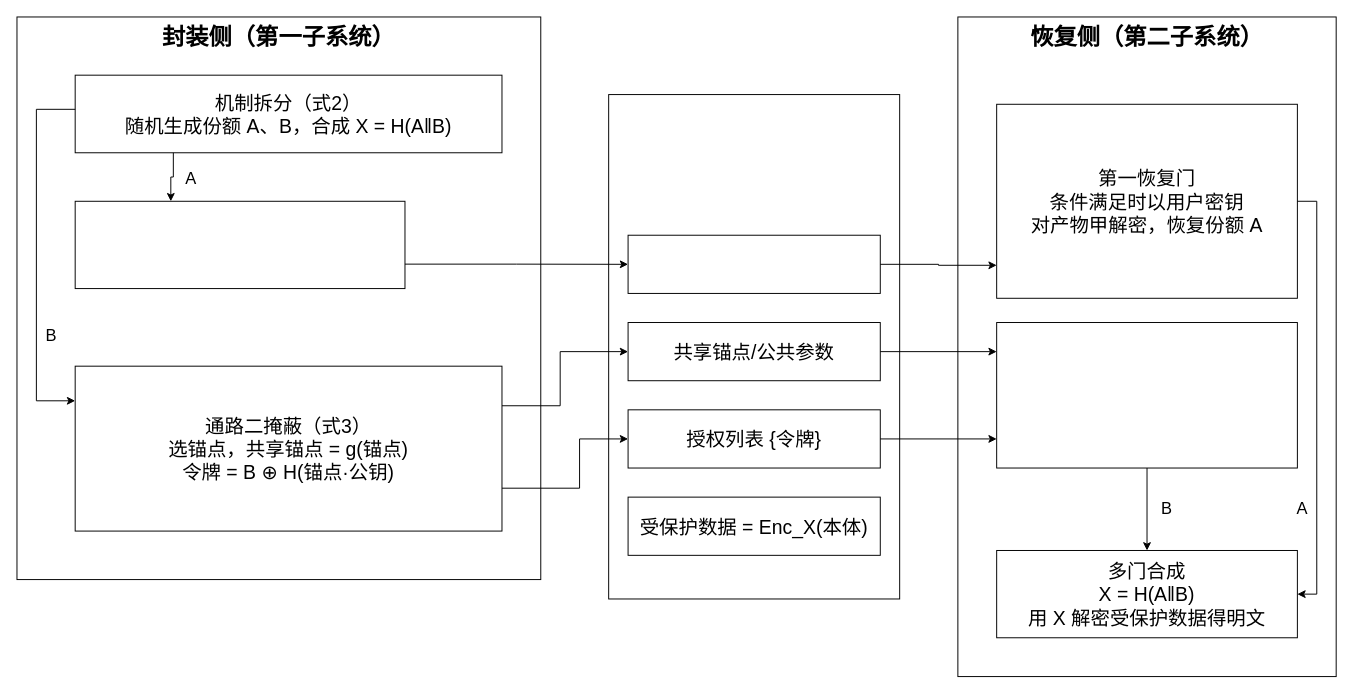
The diagram is 1353 pixels wide and 694 high, and some of its shapes have lost their labels. The shapes that lost their labels are listed below. From the top down, each one's box as (x1, y1, x2, y2) in pixels, then its label:
(74, 200, 405, 289): 通路一封装 产物甲 = 封装方案(公开参数, 策略, A)
(627, 234, 880, 293): 产物甲（密文/封装产物）
(608, 94, 900, 599): 发布产物（数据对象解剖）
(996, 322, 1297, 468): 第二恢复门 中间值 = 私钥·共享锚点（式4） B = 令牌 ⊕ H(中间值)（式5）
